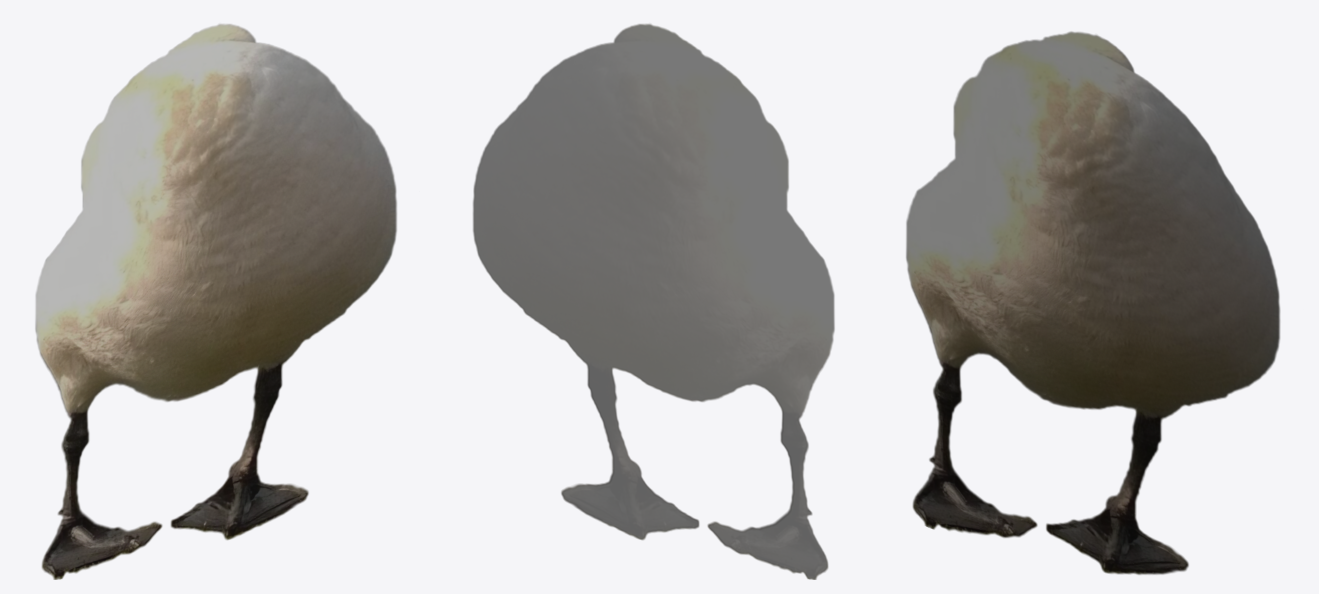
File: single.glb
3 renders of one model, left to right at view 1: azimuth 30°, elevation 25°; view 2: azimuth 150°, elevation 25°; view 3: azimuth 330°, elevation 25°, orthographic. The views are drawn at different scales.
Visible parts, largest first — view 1: ドイツのトリ; view 2: ドイツのトリ; view 3: ドイツのトリ.
Boxes of the visible parts, bbox=[...] form: ドイツのトリ: bbox=[35, 23, 396, 579]; ドイツのトリ: bbox=[473, 23, 834, 579]; ドイツのトリ: bbox=[906, 31, 1280, 574].
Bounding box in the file's own units: 0.8983 × 1.12 × 0.000305.
Materials: 1 (1 with a texture image).
